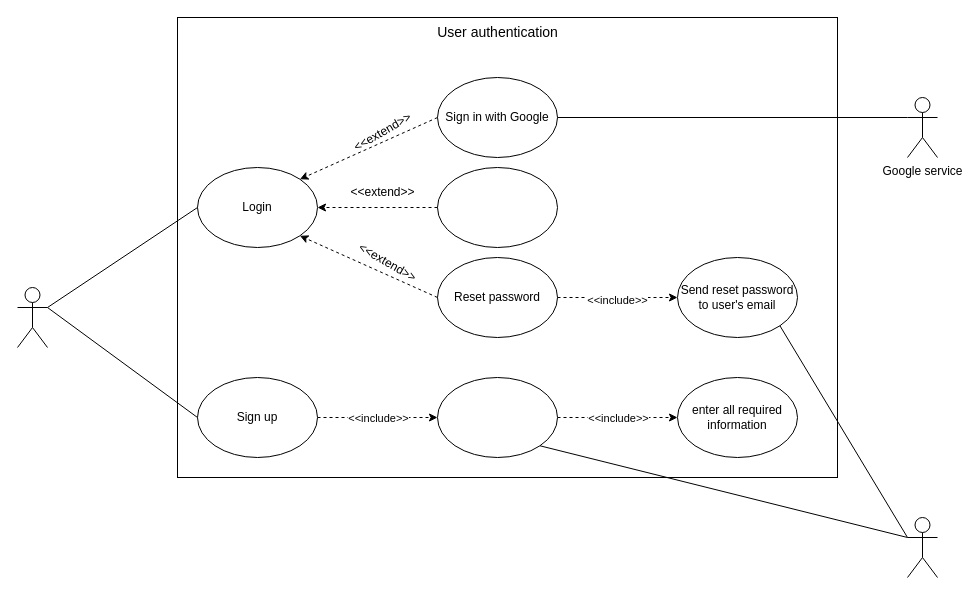
Some shapes in this 980 by 616 pixel diagram are drawn without their labels. Each missing label, with the centre of its shape:
Email service: (x=922, y=547)
Sign in with email and password: (x=497, y=207)
User: (x=32, y=317)
Verify email: (x=497, y=417)
